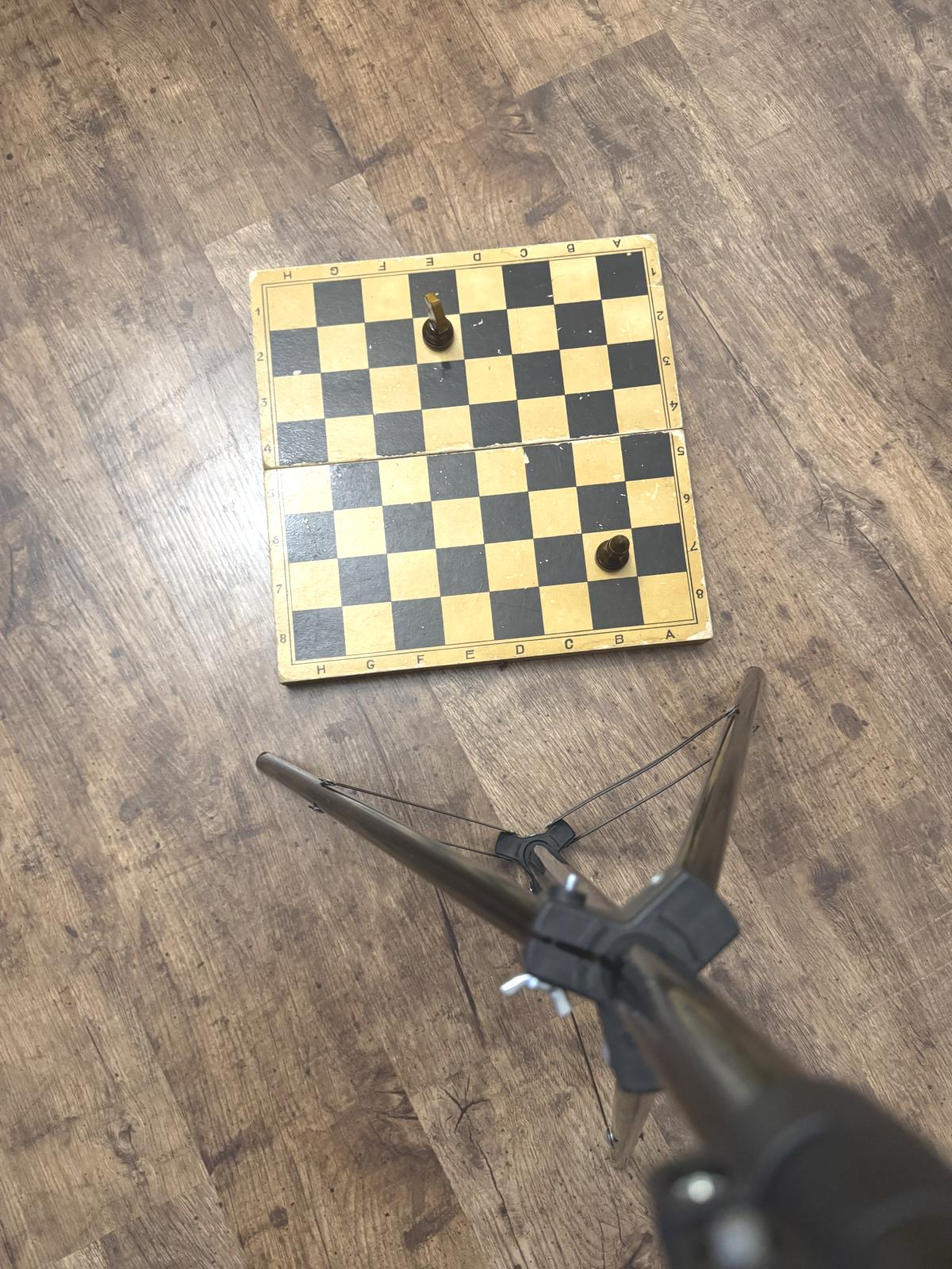Chess-Board: (267, 251, 694, 660)
